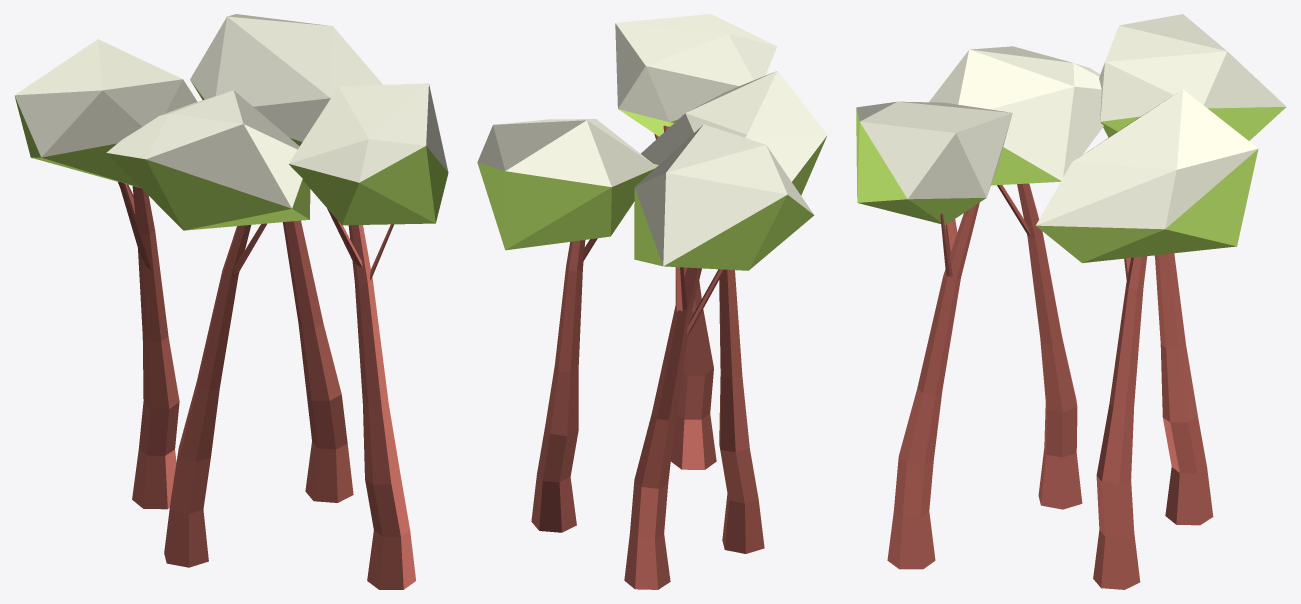
Rendered from Bush2_winter.FBX.
3 views of the same model, side by side, from view 1: azimuth 30°, elevation 25°; view 2: azimuth 150°, elevation 25°; view 3: azimuth 270°, elevation 25° (orthographic). The views are drawn at different scales.
Visible parts, largest first — view 1: bush_sml.002; view 2: bush_sml.002; view 3: bush_sml.002.
Part boxes in pixels (x1,y1,x2,y2): bush_sml.002: (14, 14, 448, 589); bush_sml.002: (477, 14, 827, 589); bush_sml.002: (856, 14, 1286, 589).
Bounding box in the file's own units: 0.8248 × 1.09 × 0.9282.
